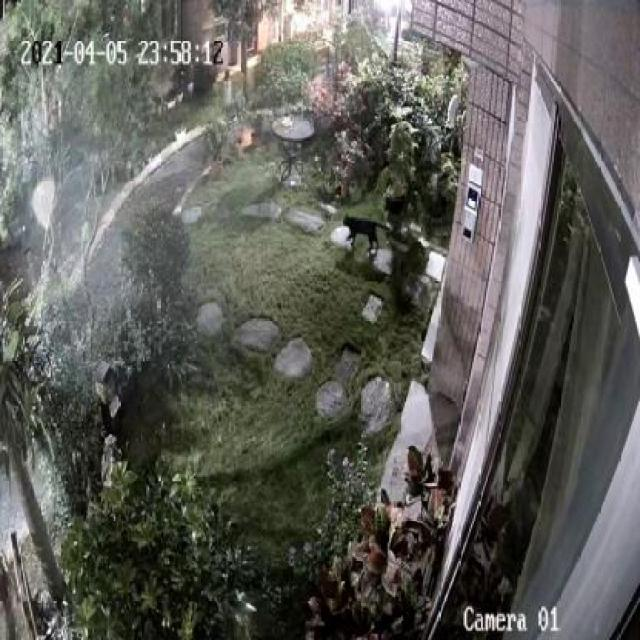animals: (336, 208, 392, 258)
